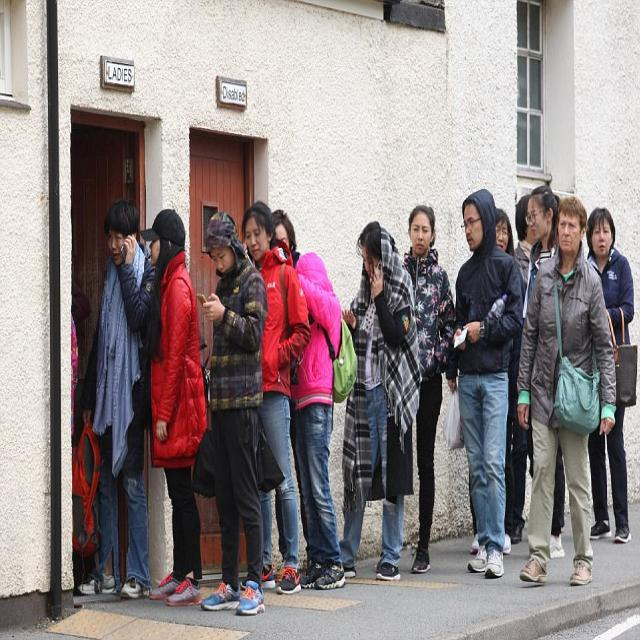body: (516, 191, 619, 588), (78, 194, 159, 600), (445, 186, 526, 579), (337, 218, 421, 583), (193, 209, 268, 617), (238, 200, 312, 598), (138, 205, 208, 607), (249, 206, 312, 586), (404, 204, 457, 574), (290, 251, 348, 589), (584, 206, 635, 546), (468, 207, 516, 556), (522, 184, 566, 560), (520, 188, 566, 547), (69, 309, 80, 609)
